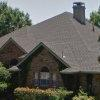Chimney: (68, 2, 94, 29)
